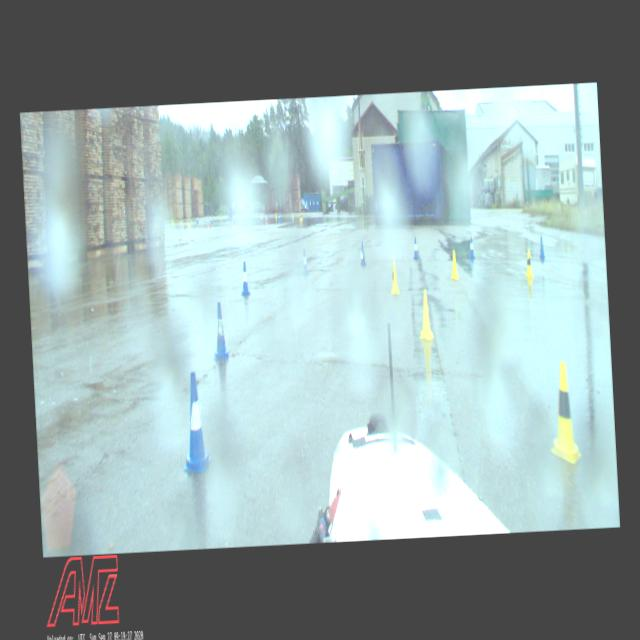blue_cone: (178, 372, 212, 472), (211, 302, 230, 360), (240, 262, 250, 296), (359, 242, 366, 266), (538, 236, 545, 260), (413, 237, 419, 261), (302, 250, 308, 274), (468, 236, 474, 258), (280, 212, 282, 222), (196, 216, 198, 225), (278, 214, 280, 222), (211, 217, 213, 225)
orange_cone: (266, 215, 268, 224), (208, 218, 210, 226)
yellow_cone: (546, 361, 582, 466), (418, 288, 436, 342), (390, 258, 400, 295), (524, 247, 534, 279), (450, 249, 460, 281), (300, 213, 302, 222), (188, 218, 190, 226), (180, 216, 182, 224), (301, 213, 303, 221)
